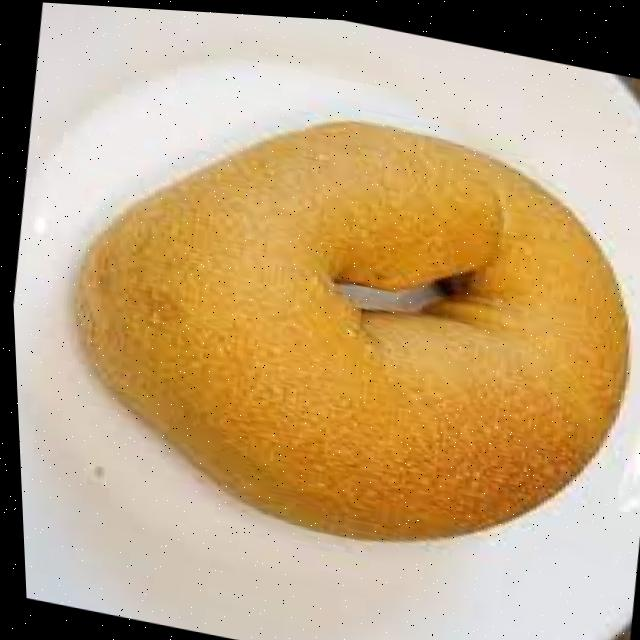Bagel: (75, 118, 623, 536)
